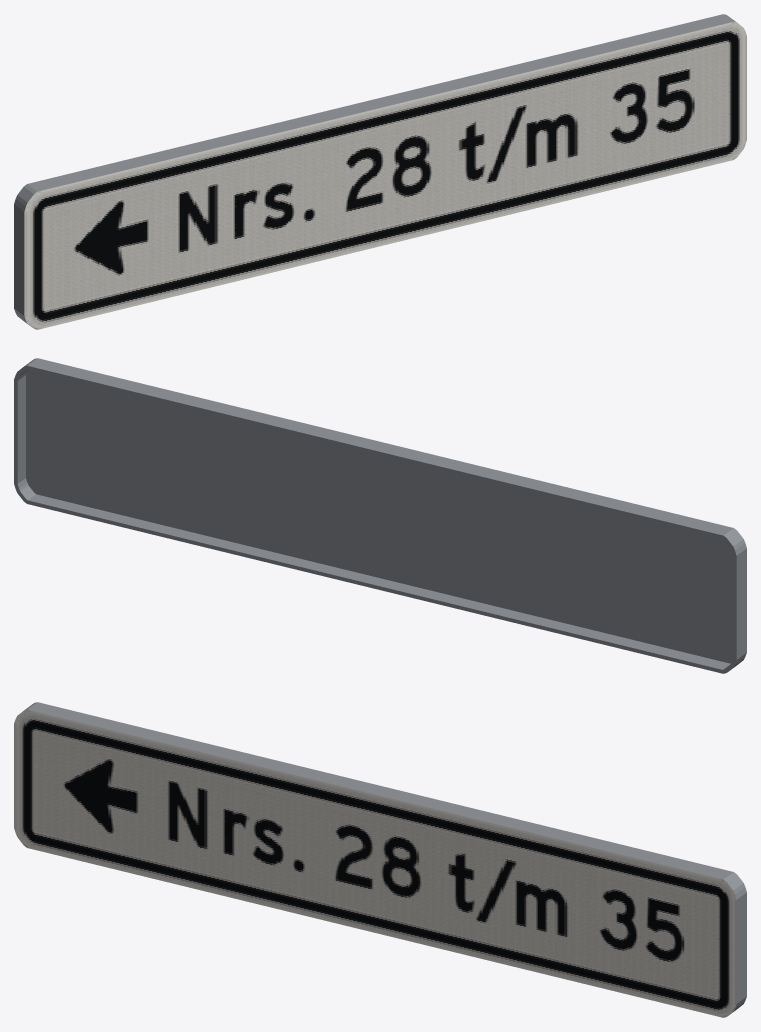
3 renders of one model, top to bottom at view 1: azimuth 30°, elevation 25°; view 2: azimuth 150°, elevation 25°; view 3: azimuth 330°, elevation 25°, orthographic.
Visible parts, largest first — view 1: cat_acc166c28863eb3f; view 2: cat_acc166c28863eb3f; view 3: cat_acc166c28863eb3f.
Part boxes in pixels (left/top/right/bottom): cat_acc166c28863eb3f: left=14, top=14, right=746, bottom=329; cat_acc166c28863eb3f: left=14, top=358, right=746, bottom=673; cat_acc166c28863eb3f: left=14, top=702, right=746, bottom=1017.
Bounding box in the file's own units: 0.6 × 0.015 × 0.1097.
2 materials, 1 textured.
